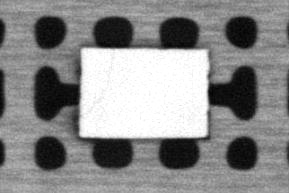DIE_CRACK: (81, 52, 114, 116)
